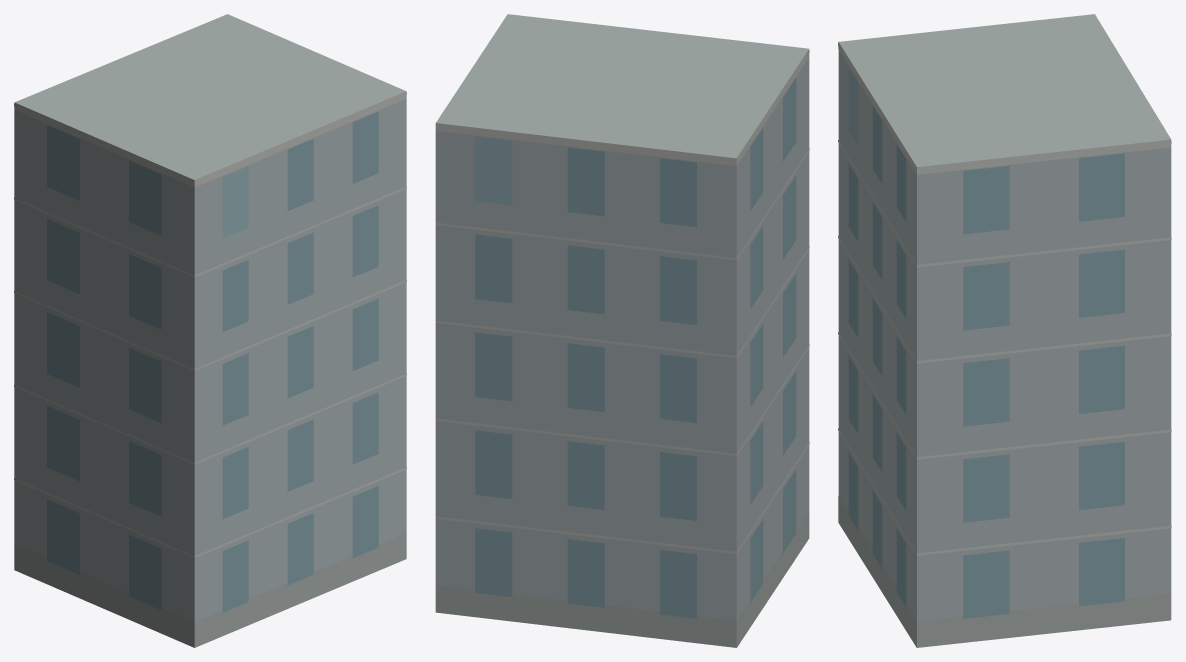
File: survey-upis-32655027.glb
The picture shows the model from 3 angles, left to right: view 1: azimuth 30°, elevation 25°; view 2: azimuth 150°, elevation 25°; view 3: azimuth 270°, elevation 25°; orthographic projection. The views are drawn at different scales.
Visible parts, largest first — view 1: survey-upis-32655027.tmp; view 2: survey-upis-32655027.tmp; view 3: survey-upis-32655027.tmp.
Part boxes in pixels (bbox=[...]): survey-upis-32655027.tmp: bbox=[14, 14, 406, 647]; survey-upis-32655027.tmp: bbox=[435, 14, 809, 647]; survey-upis-32655027.tmp: bbox=[838, 14, 1171, 647].
Size of the model in its own units: 10.48 by 15.3 by 9.63.
